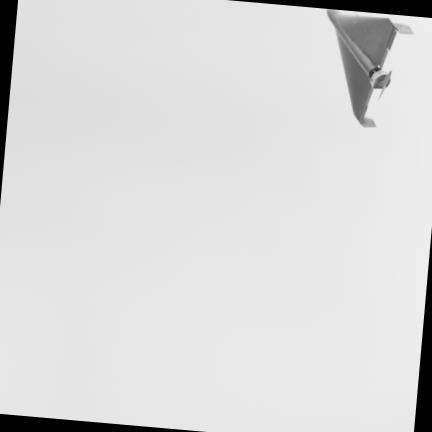Shahed: (327, 9, 413, 127)
